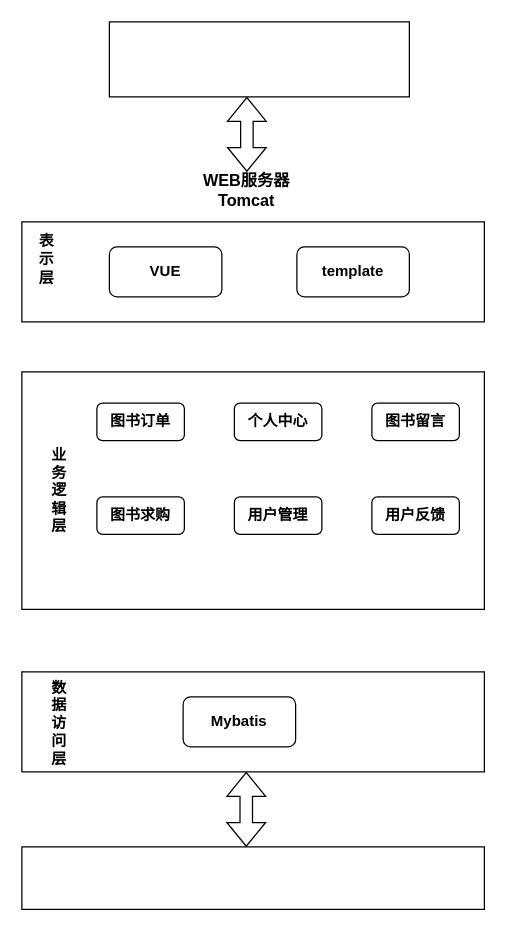
The diagram is 506 pixels wide and 931 high, and some of its shapes have lost their labels. Each missing label, with the centre of its shape:
"WEB浏览器 IE、Chrome、FireFox" goes at (258,59).
"数据库服务器 MYSQL" goes at (252,877).
